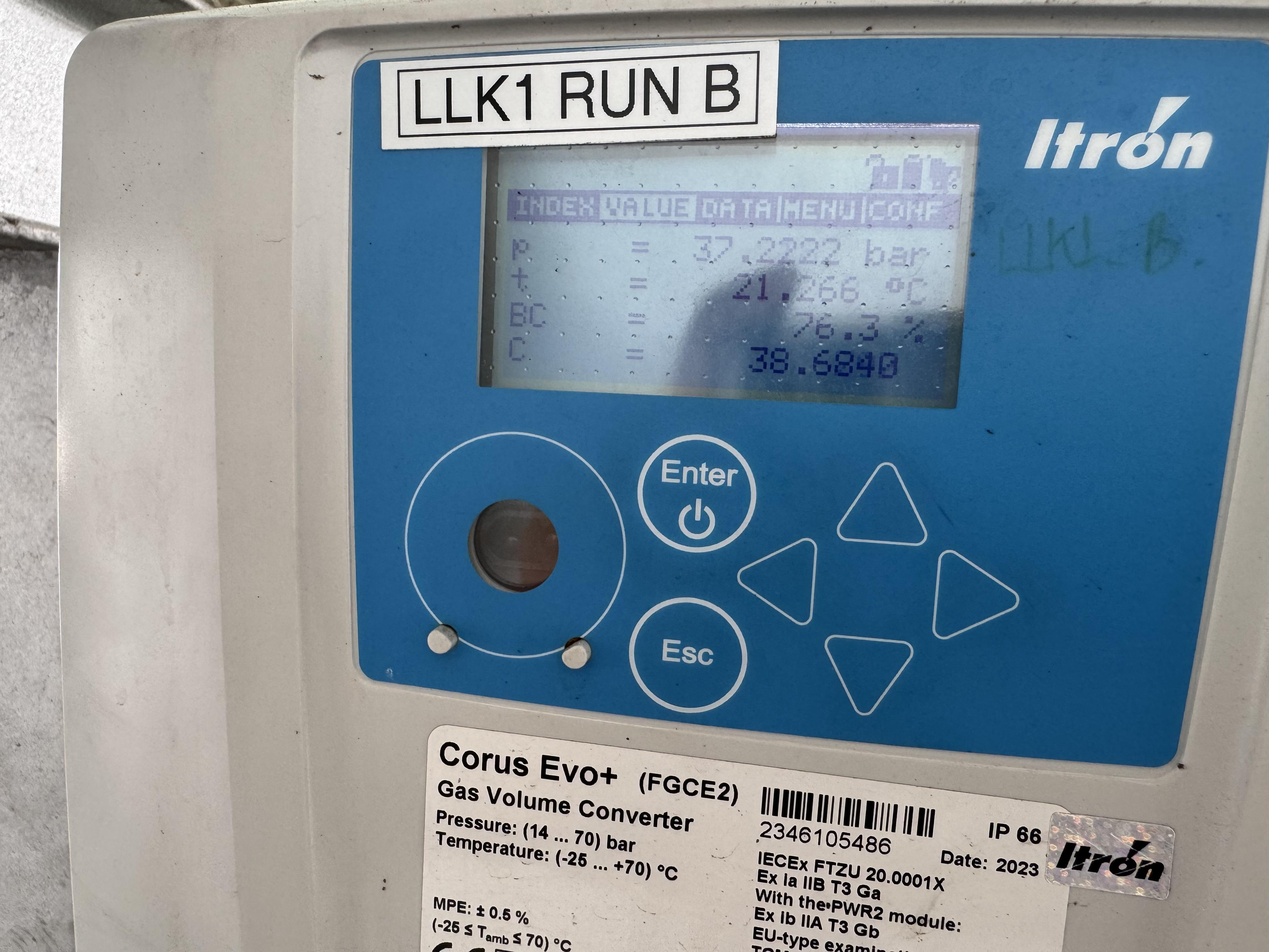digital_screen: (478, 108, 980, 410)
